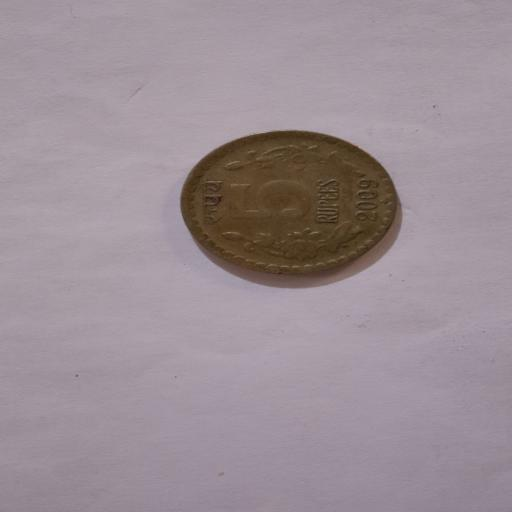rupee5: (178, 130, 398, 277)
